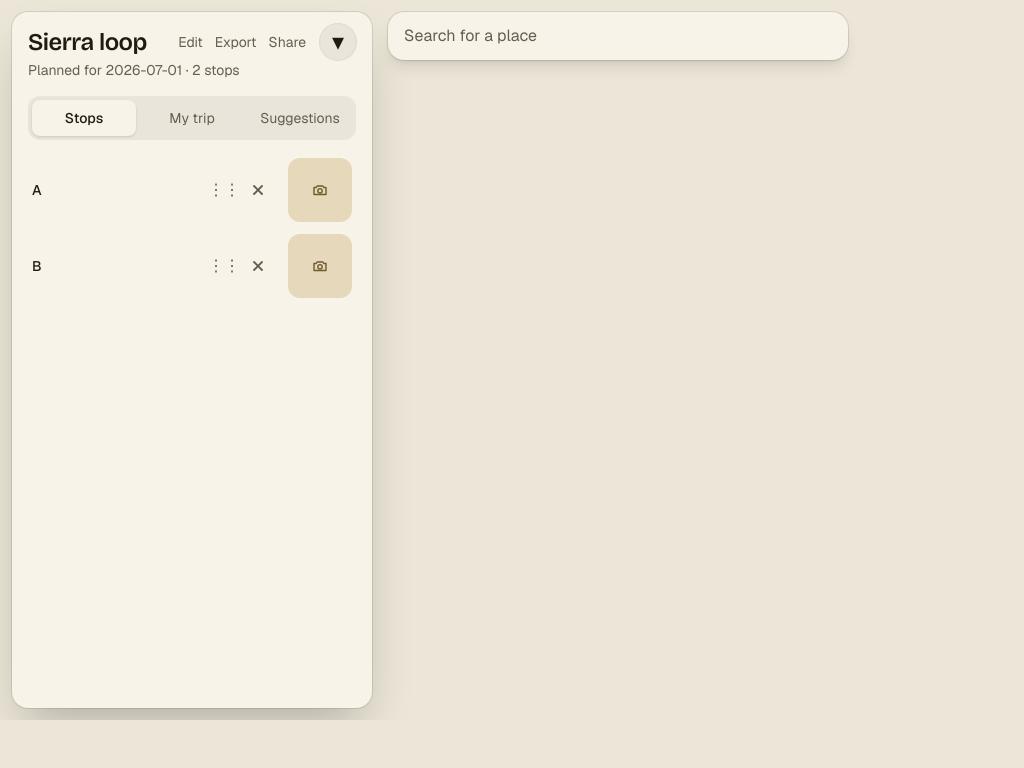
Test: TripEditor › loads the route through the stops in order and shows its summary on My trip
Click the tab "My trip". click: (192,118)
box: [140,100,244,136]
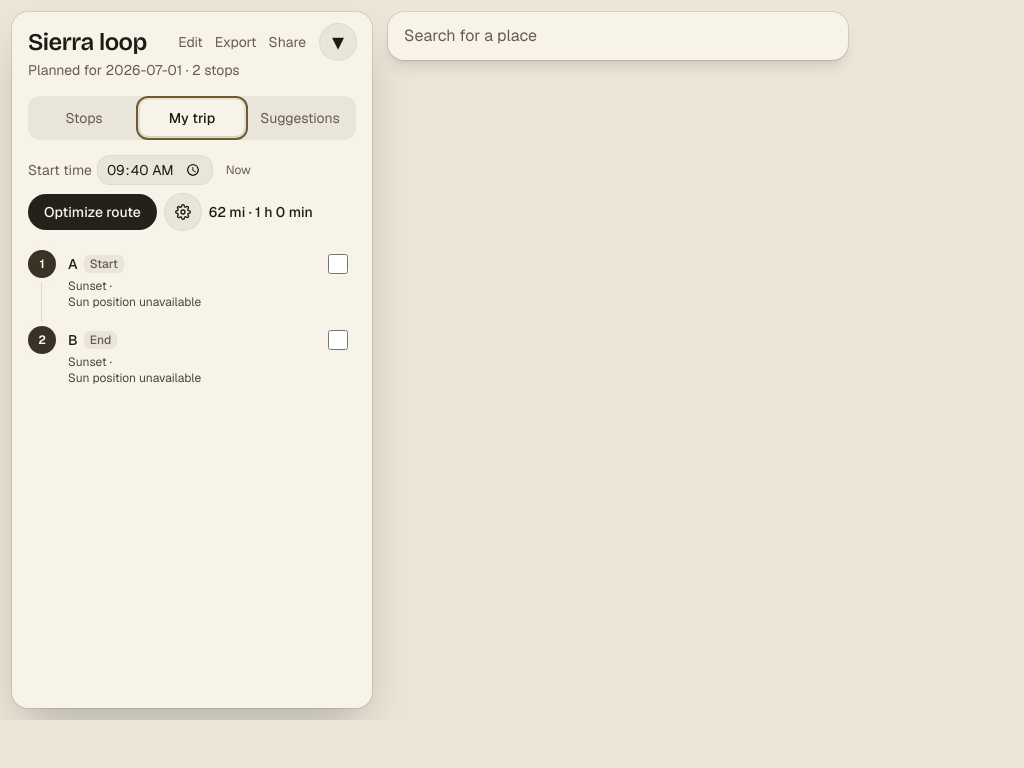
Result: the text with test id "route-status" reads "62 mi · 1 h 0 min" at [209,203,313,221]
